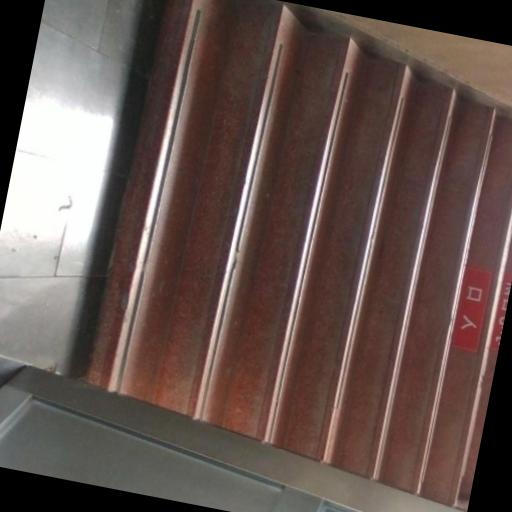stairs: (88, 0, 511, 503)
